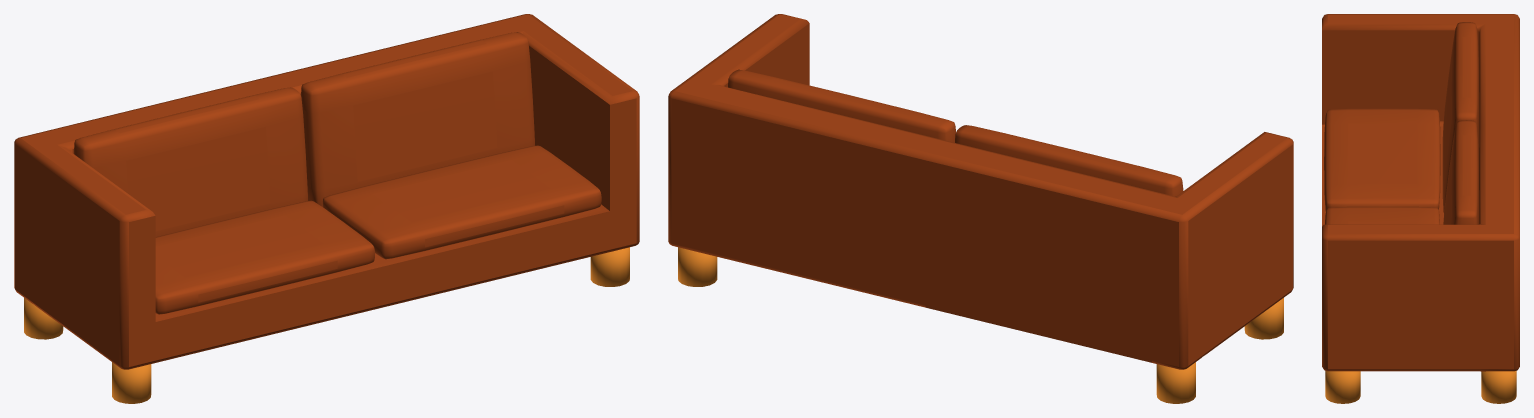
File: sofa.gltf
3 views of the same model, side by side, from view 1: azimuth 30°, elevation 25°; view 2: azimuth 150°, elevation 25°; view 3: azimuth 270°, elevation 25° (orthographic). The views are drawn at different scales.
Visible parts, largest first — view 1: sofa cushion, sofa, sofa_leg; view 2: sofa, sofa cushion, sofa_leg; view 3: sofa, sofa cushion, sofa_leg.
Part boxes in pixels (<box>): sofa cushion: <box>74,32,601,314</box>; sofa: <box>14,14,639,369</box>; sofa_leg: <box>24,247,629,403</box>; sofa: <box>668,14,1293,369</box>; sofa cushion: <box>728,69,1183,196</box>; sofa_leg: <box>678,247,1283,403</box>; sofa: <box>1322,14,1519,371</box>; sofa cushion: <box>1324,22,1479,224</box>; sofa_leg: <box>1325,371,1516,403</box>.
Bounding box in the file's own units: 2.69 × 0.9867 × 1.
